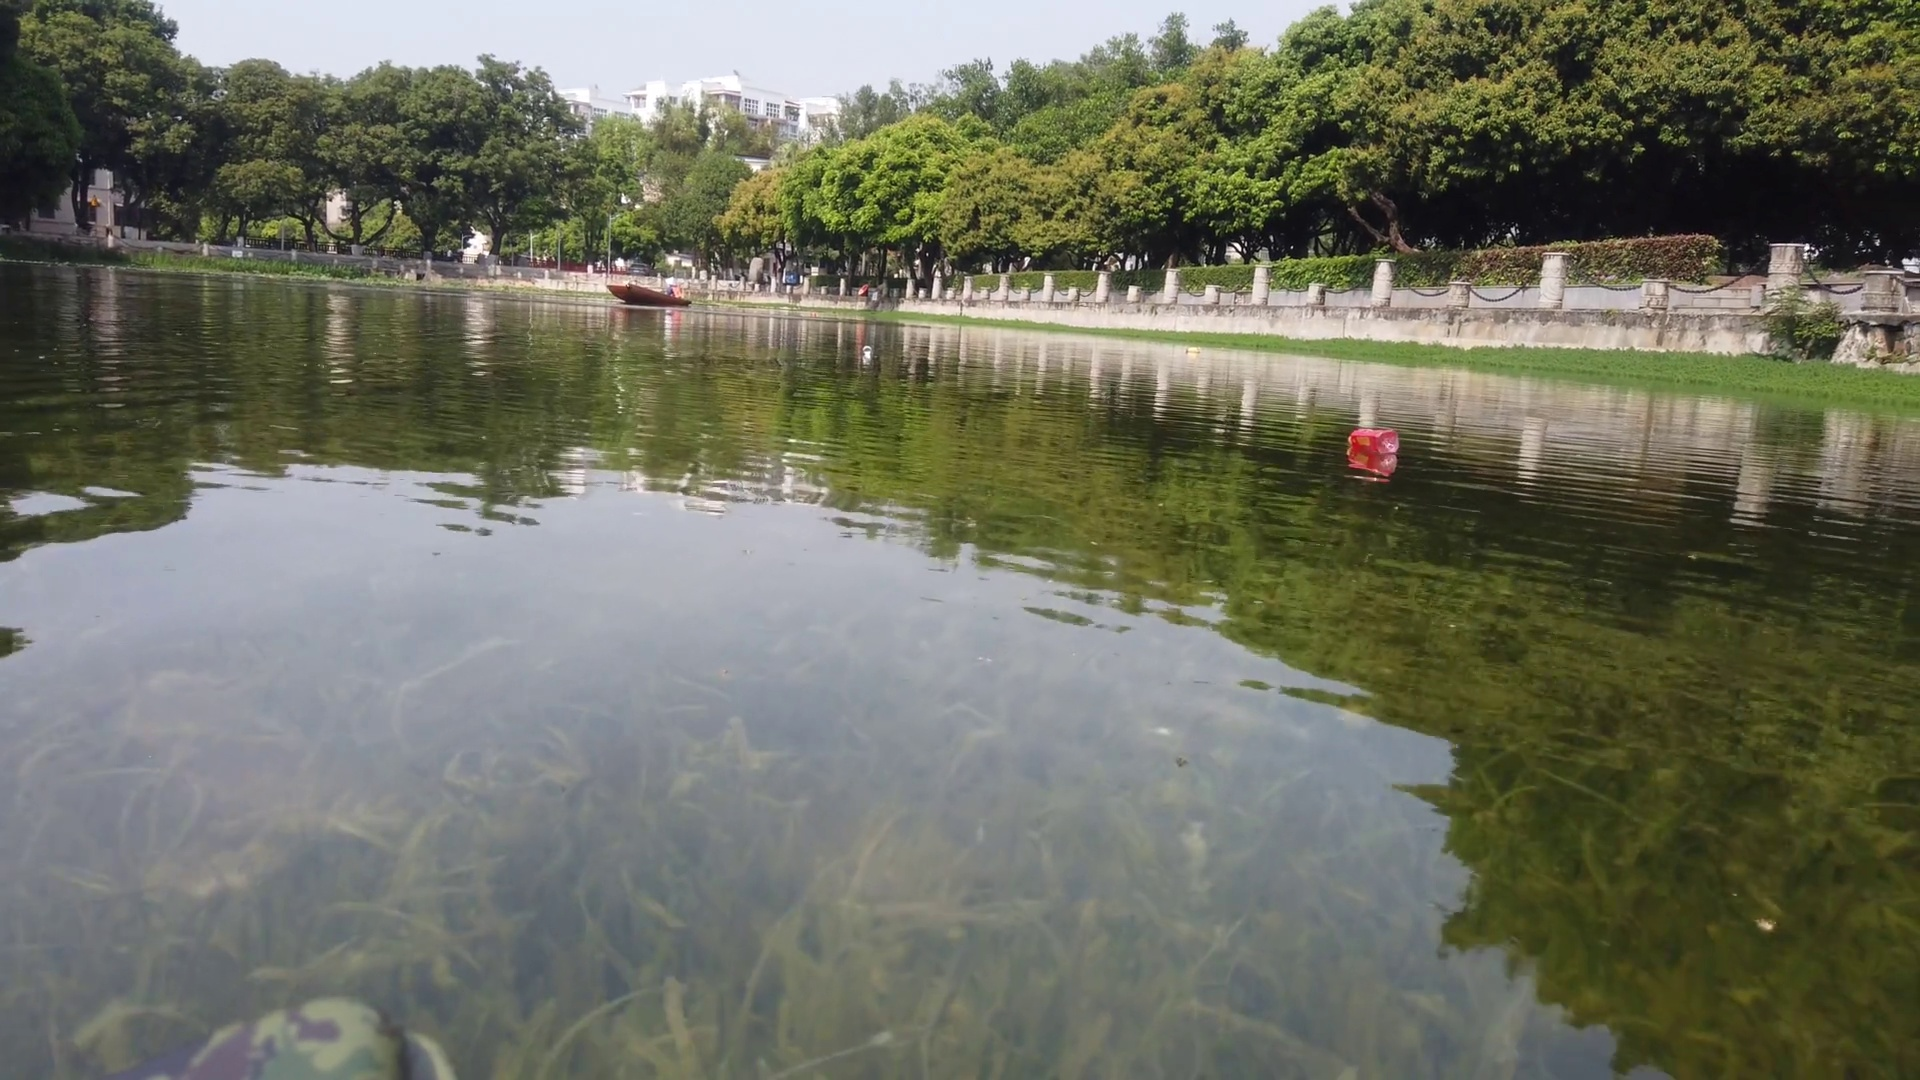bottle: (1344, 429, 1403, 456), (1185, 344, 1201, 355), (862, 344, 874, 356)
